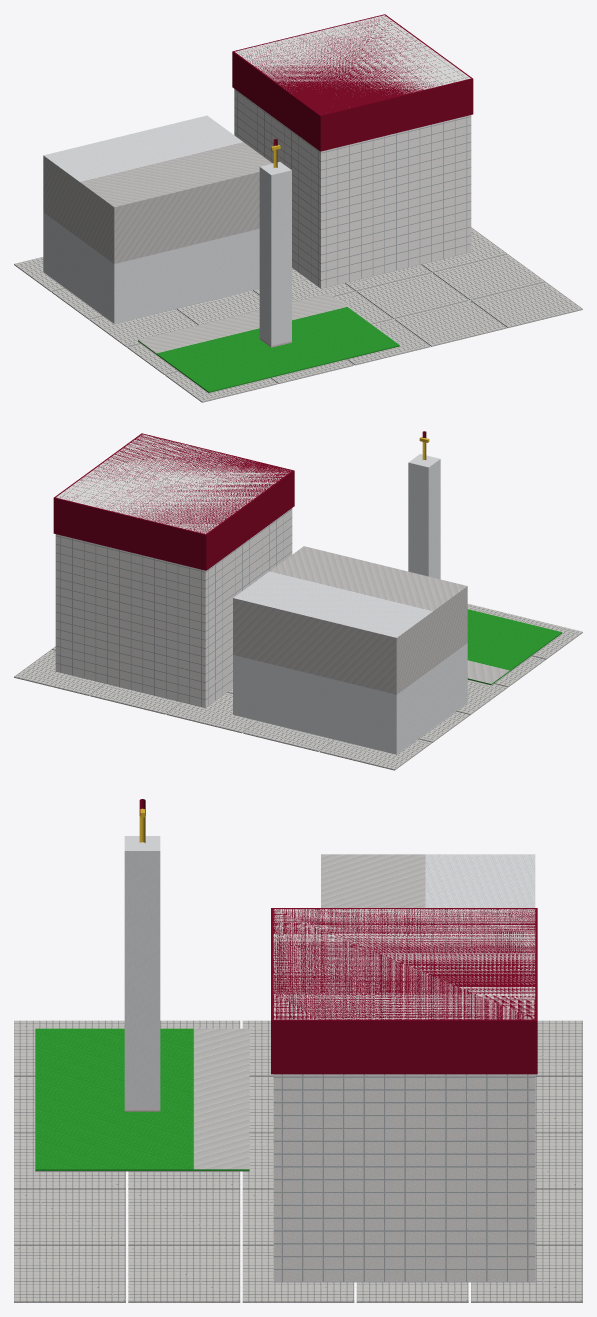
3 renders of one model, top to bottom at view 1: azimuth 30°, elevation 25°; view 2: azimuth 150°, elevation 25°; view 3: azimuth 270°, elevation 25°, orthographic. The views are drawn at different scales.
Visible parts, largest first — view 1: 28185_B28_Incheon_Catholic_University; view 2: 28185_B28_Incheon_Catholic_University; view 3: 28185_B28_Incheon_Catholic_University.
Part boxes in pixels (left/top/right/bottom): 28185_B28_Incheon_Catholic_University: left=14, top=14, right=582, bottom=402; 28185_B28_Incheon_Catholic_University: left=14, top=431, right=582, bottom=770; 28185_B28_Incheon_Catholic_University: left=14, top=799, right=582, bottom=1302.
Size of the model in its own units: 55.8 by 28.5 by 47.8.
Materials: 1 (1 with a texture image).
